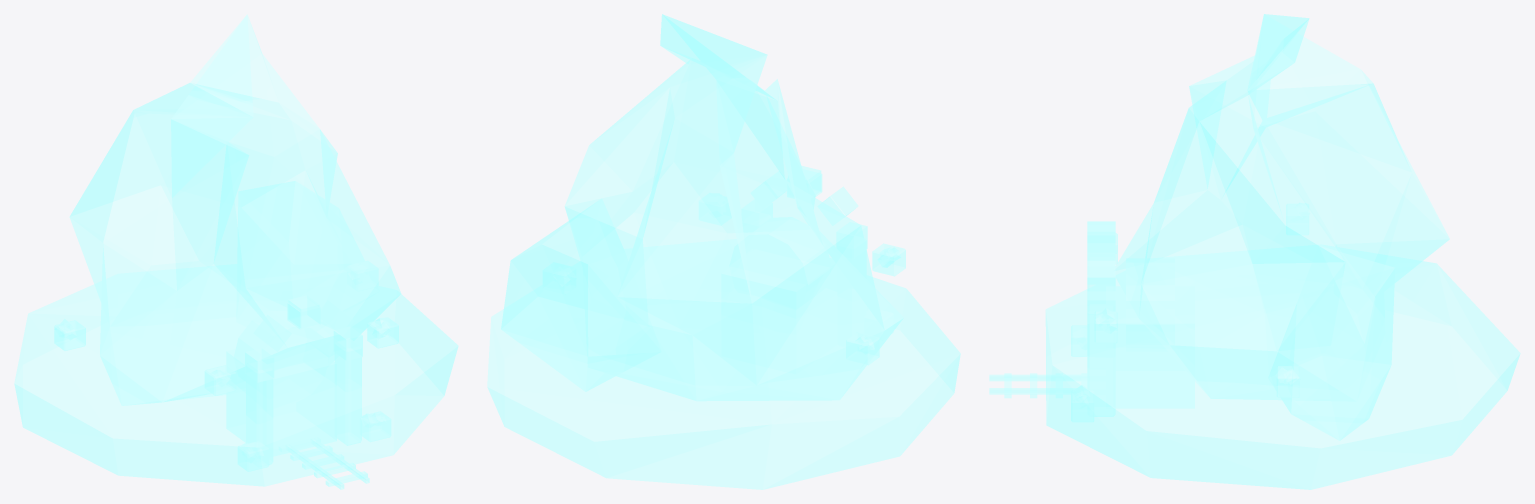
The model's file is GH_Mountain_Gold.fbx.
3 views of the same model, side by side, from view 1: azimuth 30°, elevation 25°; view 2: azimuth 150°, elevation 25°; view 3: azimuth 270°, elevation 25° (orthographic). The views are drawn at different scales.
Parts seen in each view (by area): view 1: SM_Mountain_Gold; view 2: SM_Mountain_Gold; view 3: SM_Mountain_Gold.
Boxes of the visible parts, left/top/right/bottom form: SM_Mountain_Gold: left=14, top=14, right=458, bottom=489; SM_Mountain_Gold: left=487, top=14, right=960, bottom=489; SM_Mountain_Gold: left=989, top=14, right=1520, bottom=489.
Size of the model in its own units: 10.34 by 9.29 by 11.37.
